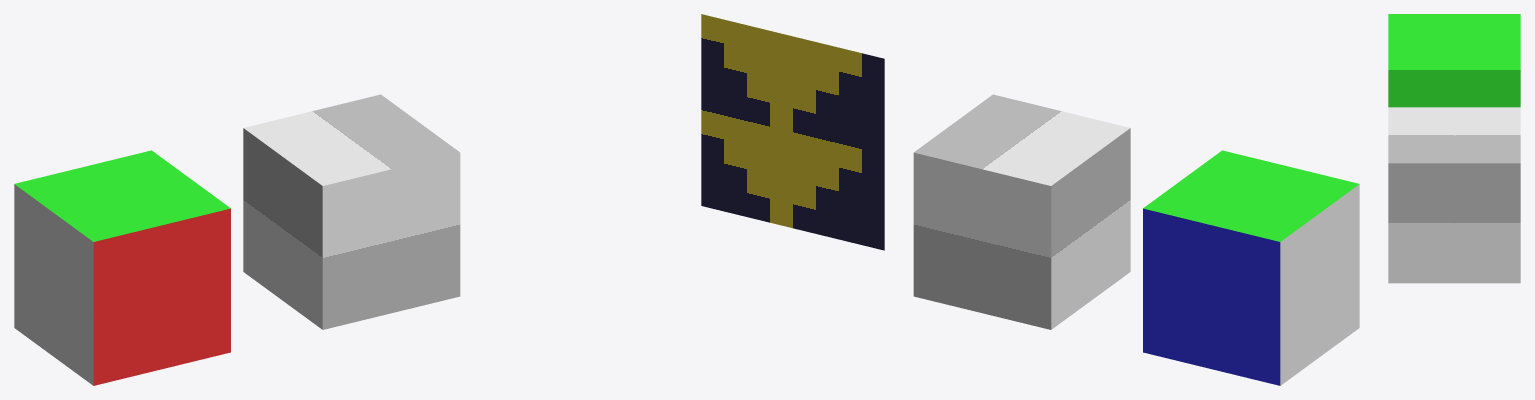
Rendered from materials.glb.
The picture shows the model from 3 angles, left to right: view 1: azimuth 30°, elevation 25°; view 2: azimuth 150°, elevation 25°; view 3: azimuth 270°, elevation 25°; orthographic projection. The views are drawn at different scales.
Visible parts, largest first — view 1: pedestal, screen; view 2: pedestal, screen, panel; view 3: pedestal, screen.
Part boxes in pixels (bbox=[...]): pedestal: bbox=[243, 94, 460, 329]; screen: bbox=[14, 150, 230, 385]; pedestal: bbox=[913, 94, 1130, 329]; screen: bbox=[1143, 150, 1359, 385]; panel: bbox=[701, 14, 884, 250]; pedestal: bbox=[1388, 107, 1520, 283]; screen: bbox=[1388, 14, 1520, 107].
Size of what is drawn, in the model's own units: 2.7 by 0.8 by 0.6.
3 materials, 3 textured.
